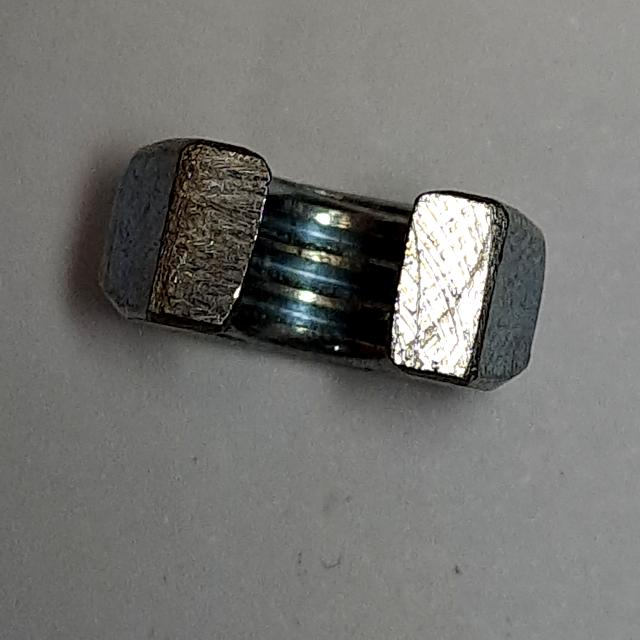Side-Fracture: (87, 123, 563, 410)
